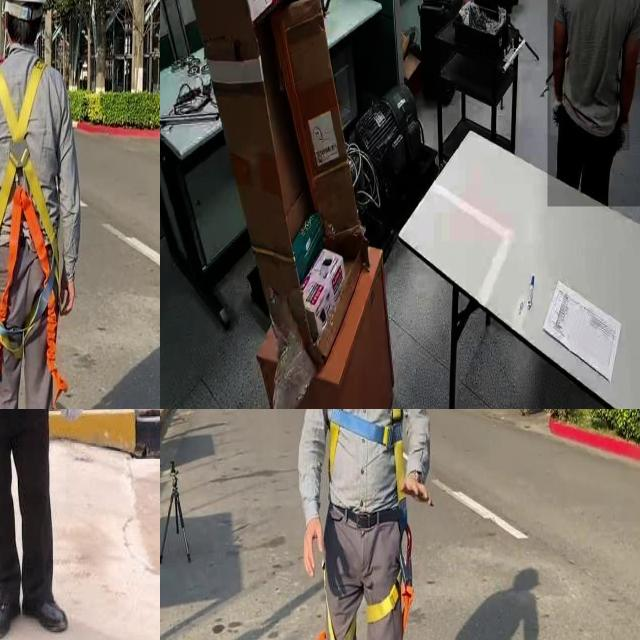Harness: (0, 54, 68, 362), (349, 504, 415, 640), (329, 409, 404, 504)
boots: (24, 592, 70, 638), (0, 595, 23, 640)
hand_glove: (550, 88, 564, 136), (618, 117, 630, 151)
person: (0, 409, 142, 640), (547, 0, 640, 207)
